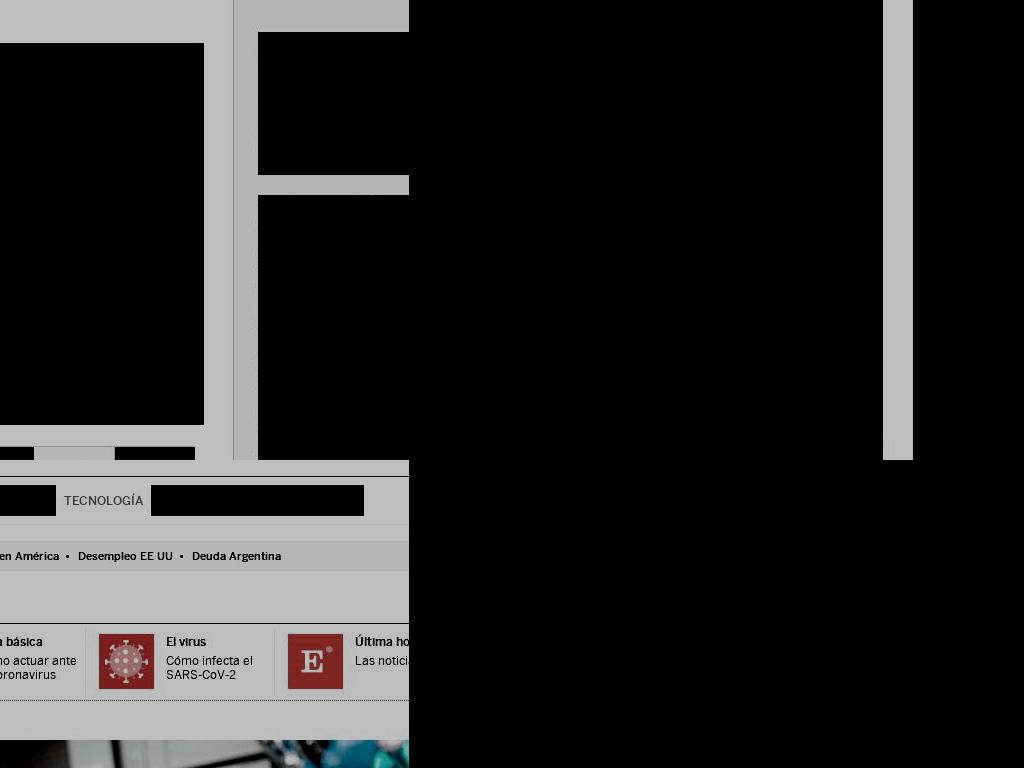button: (409, 232, 883, 248), (56, 485, 151, 516), (409, 629, 488, 665), (225, 485, 305, 516), (151, 485, 225, 516), (305, 485, 364, 516), (0, 485, 56, 516), (77, 549, 192, 563), (191, 549, 291, 563), (938, 629, 975, 665), (0, 549, 78, 563), (43, 315, 68, 339), (72, 315, 97, 339), (100, 315, 125, 339), (129, 315, 154, 339), (158, 315, 182, 339)
field: (541, 629, 975, 665)
heading: (0, 43, 204, 425), (409, 348, 868, 381)
iframe: (0, 595, 409, 728), (258, 32, 409, 175)
image: (409, 0, 883, 460), (409, 460, 1024, 768), (409, 460, 1024, 615), (409, 477, 1024, 573), (946, 637, 967, 657)
text: (913, 0, 1024, 460), (258, 195, 409, 460), (0, 113, 183, 239), (474, 687, 1024, 721), (409, 388, 868, 410), (409, 639, 474, 655), (409, 728, 456, 745)
